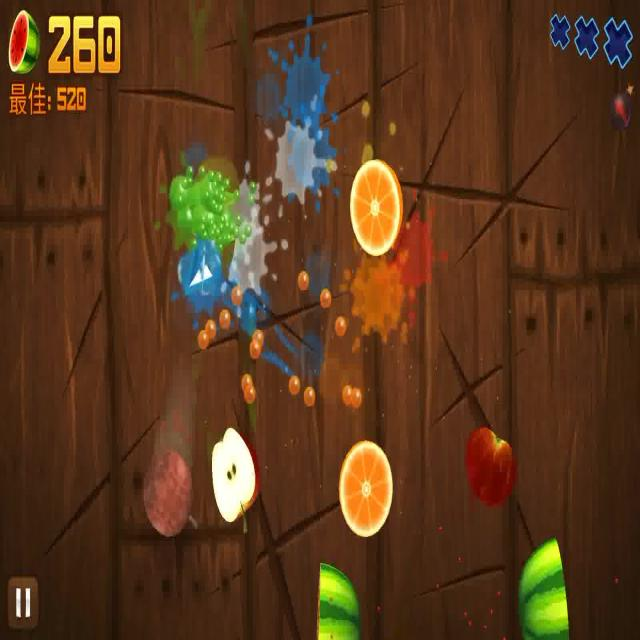fruit: (330, 436, 396, 538), (516, 535, 570, 640), (144, 442, 198, 542), (210, 430, 262, 531), (346, 160, 403, 250), (464, 414, 514, 510), (316, 549, 355, 640)
